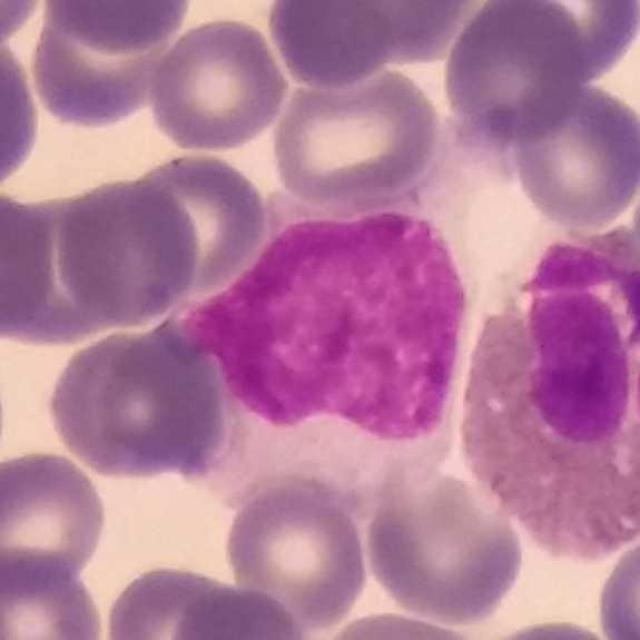RBC: (174, 211, 475, 491)
